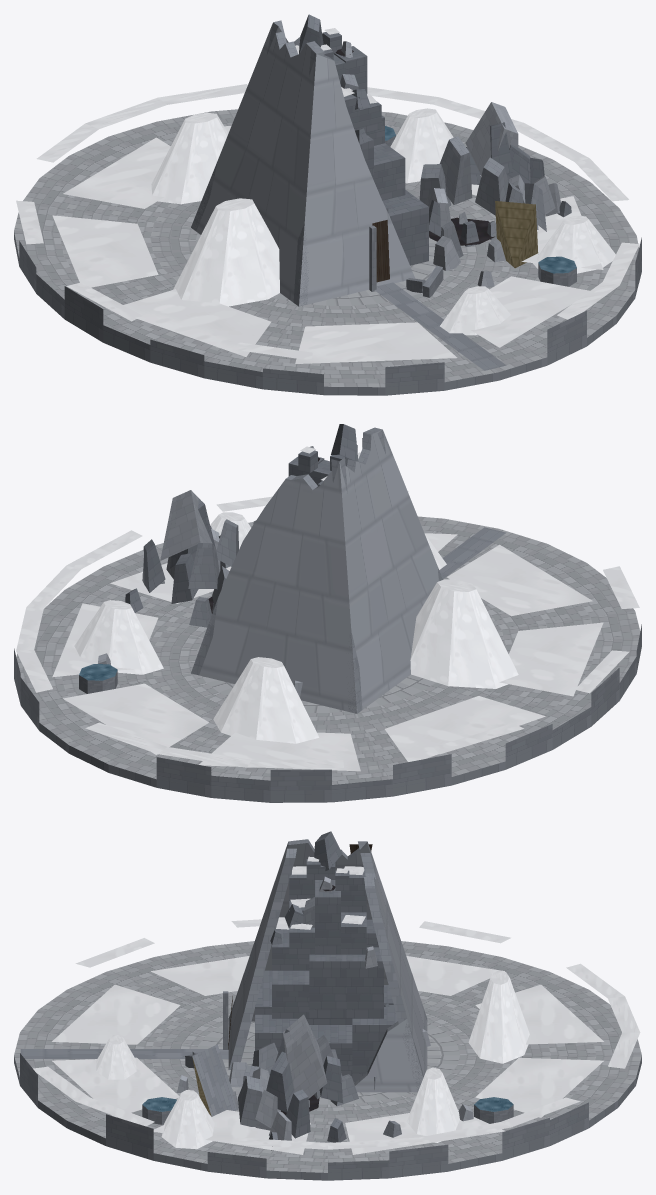
File: pyramid_small_destroyed_lod0.glb
3 renders of one model, top to bottom at view 1: azimuth 30°, elevation 25°; view 2: azimuth 150°, elevation 25°; view 3: azimuth 270°, elevation 25°, orthographic. The views are drawn at different scales.
Parts seen in each view (by area): view 1: pyramid_small_destroyed_lod0; view 2: pyramid_small_destroyed_lod0; view 3: pyramid_small_destroyed_lod0.
Part boxes in pixels (x1,y1,x2,y2): pyramid_small_destroyed_lod0: (14, 14, 641, 395); pyramid_small_destroyed_lod0: (14, 424, 641, 802); pyramid_small_destroyed_lod0: (14, 831, 641, 1180).
Size of the model in its own units: 1.7 by 0.7712 by 1.91.
Materials: 1 (1 with a texture image).
